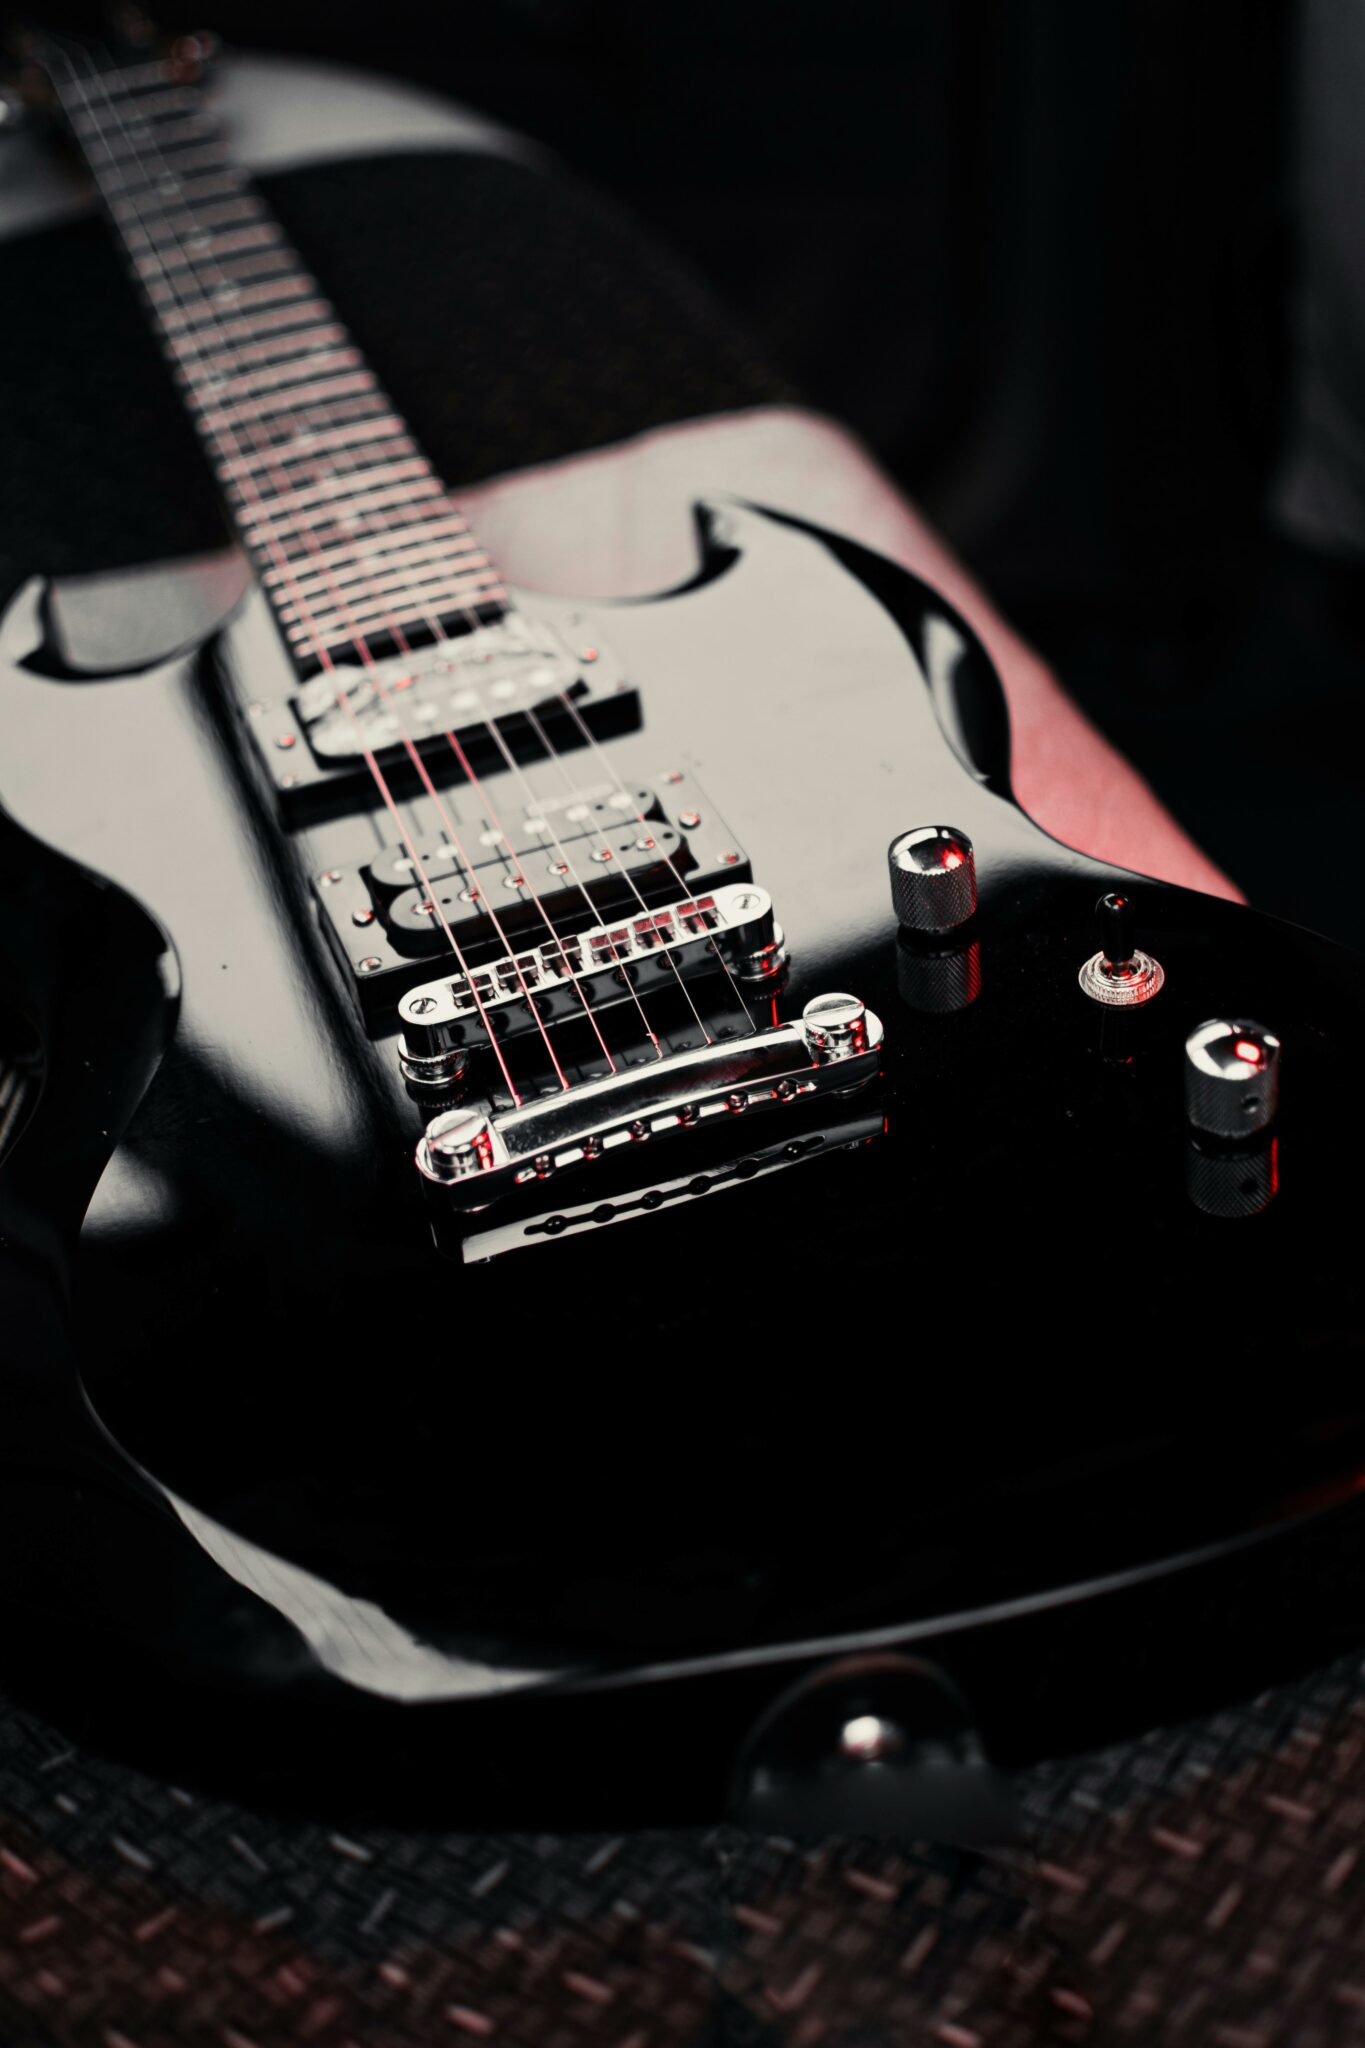guitar: (0, 26, 1357, 1920), (11, 12, 1278, 1325)
